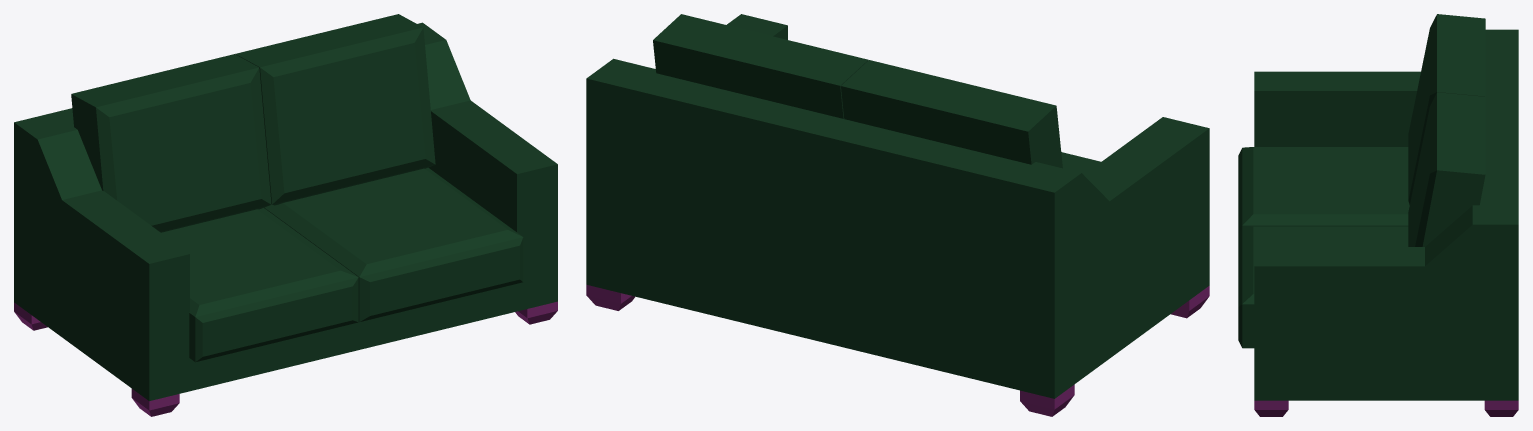
The model's file is Sofa.fbx.
The picture shows the model from 3 angles, left to right: view 1: azimuth 30°, elevation 25°; view 2: azimuth 150°, elevation 25°; view 3: azimuth 270°, elevation 25°; orthographic projection. The views are drawn at different scales.
Visible parts, largest first — view 1: Sofa; view 2: Sofa; view 3: Sofa.
Part boxes in pixels (<box>): Sofa: <box>14,14,557,416</box>; Sofa: <box>586,14,1209,416</box>; Sofa: <box>1238,14,1518,416</box>.
Size of the model in its own units: 2 by 1.22 by 1.1.
